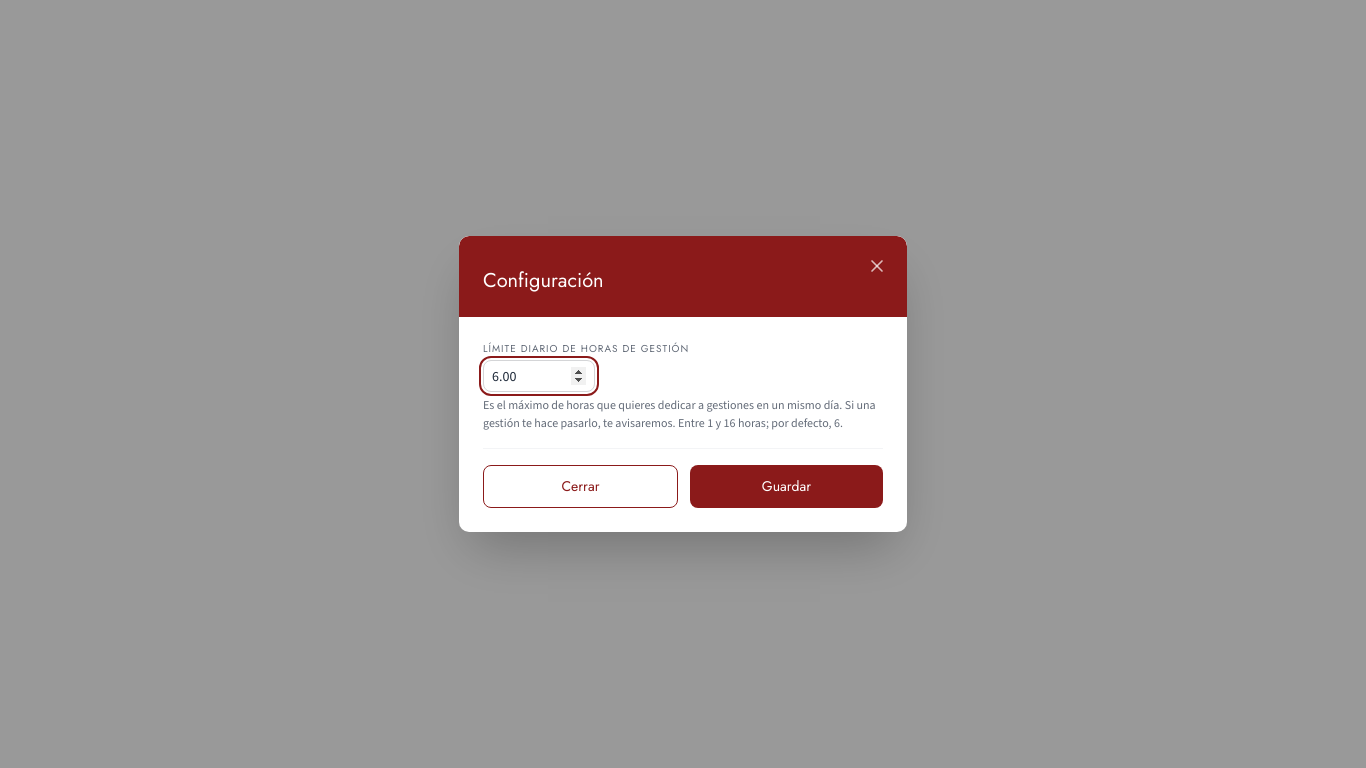
Test: SettingsModal › guardar un valor fuera de rango (1-16) no envía nada y muestra el mensaje de ayuda del rango
Replace the text in the number field labelled "Límite diario de horas de gestión" with "20" at (539, 376), box x1=483 y1=360 x2=595 y2=392
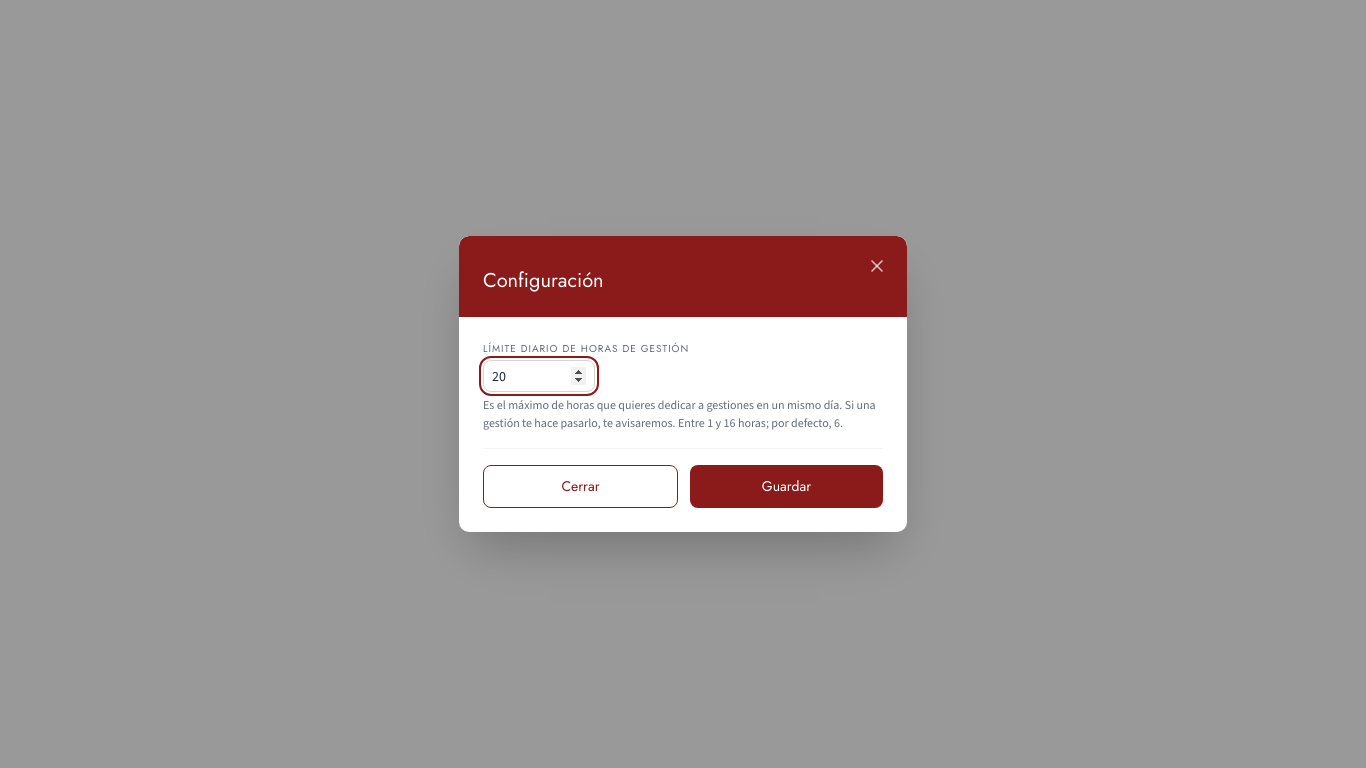
Click the button "Guardar" at (786, 486), box x1=690 y1=465 x2=883 y2=508
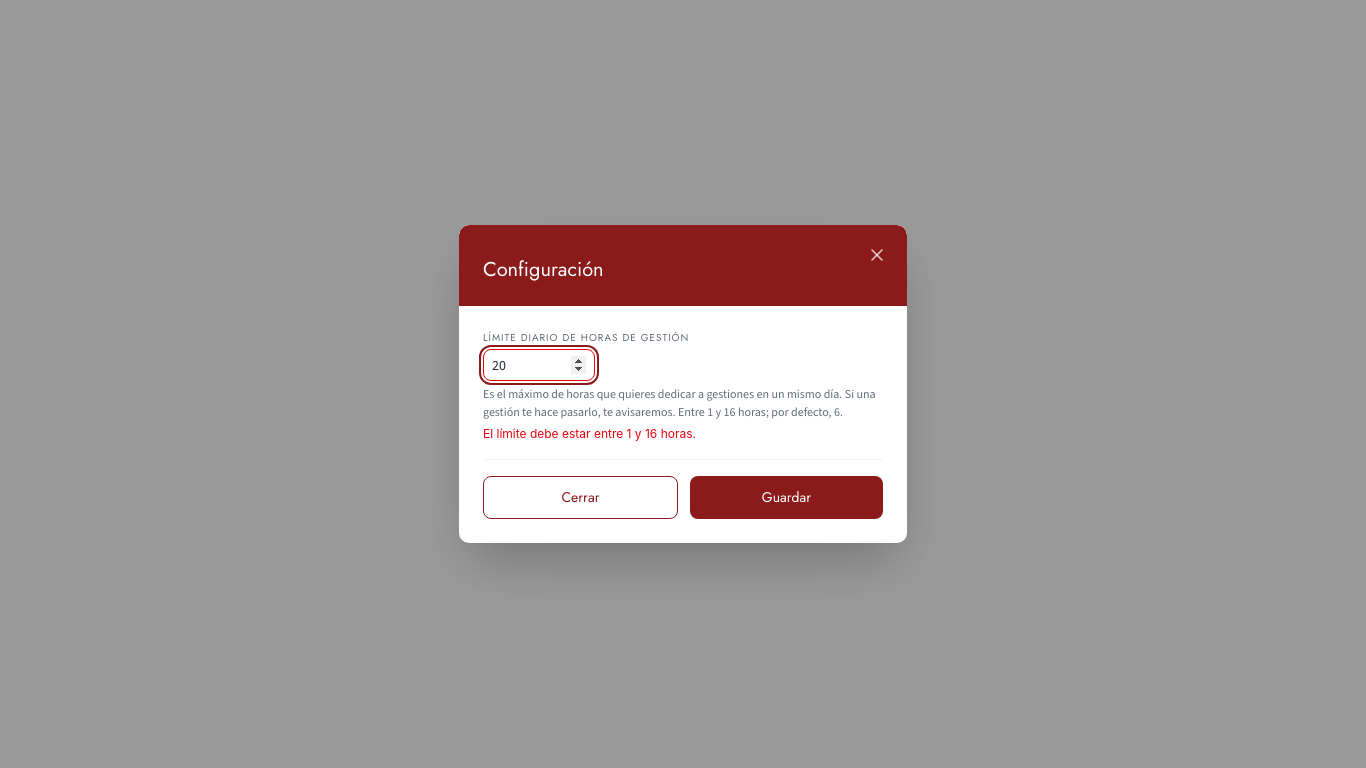
Check: the text "El límite debe estar entre 1 y 16 horas." is shown, box x1=483 y1=426 x2=696 y2=441
